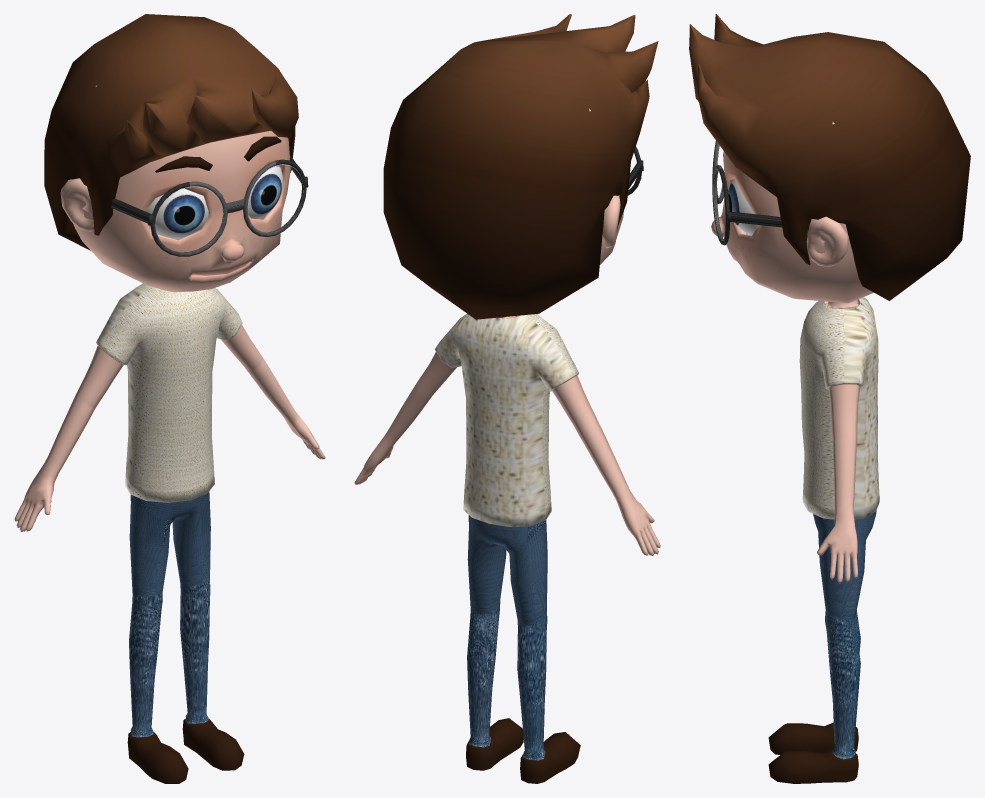
File: boy.obj
The picture shows the model from 3 angles, left to right: view 1: azimuth 30°, elevation 25°; view 2: azimuth 150°, elevation 25°; view 3: azimuth 270°, elevation 25°; orthographic projection.
Visible parts, largest first — view 1: Boy; view 2: Boy; view 3: Boy.
Boxes of the visible parts, x1=… form: Boy: x1=14, y1=14, x2=325, y2=783; Boy: x1=354, y1=14, x2=660, y2=783; Boy: x1=689, y1=14, x2=970, y2=783.
Bounding box in the file's own units: 1.85 × 4.25 × 1.51.
Materials: 9 (7 with a texture image).
